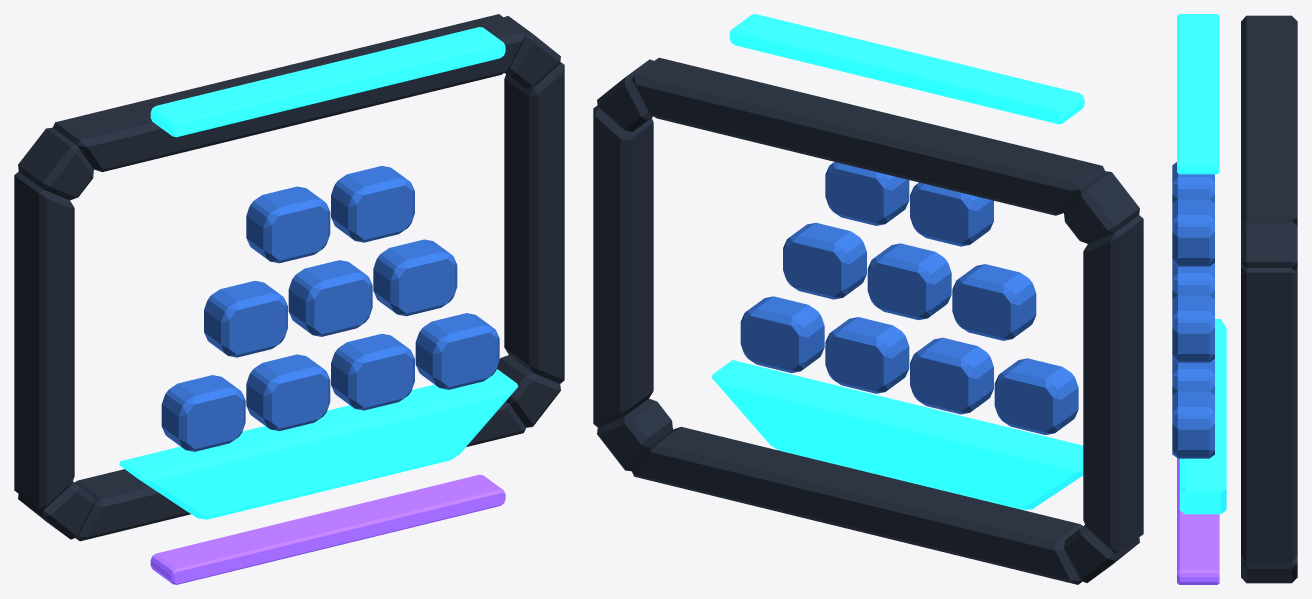
Rendered from tech-docker.glb.
3 views of the same model, side by side, from view 1: azimuth 30°, elevation 25°; view 2: azimuth 150°, elevation 25°; view 3: azimuth 270°, elevation 25° (orthographic). The views are drawn at different scales.
Visible parts, largest first — view 1: tech-docker_SystemMaterial, tech-docker_CoreMaterial, tech-docker_SignalMaterial, tech-docker_AccentMaterial; view 2: tech-docker_SystemMaterial, tech-docker_CoreMaterial, tech-docker_SignalMaterial; view 3: tech-docker_SystemMaterial, tech-docker_CoreMaterial, tech-docker_SignalMaterial, tech-docker_AccentMaterial.
Part boxes in pixels (<box>): tech-docker_SystemMaterial: <box>14,14,564,541</box>; tech-docker_CoreMaterial: <box>161,166,499,451</box>; tech-docker_SignalMaterial: <box>119,27,518,519</box>; tech-docker_AccentMaterial: <box>150,474,505,584</box>; tech-docker_SystemMaterial: <box>593,57,1143,584</box>; tech-docker_CoreMaterial: <box>740,162,1078,434</box>; tech-docker_SignalMaterial: <box>711,14,1084,510</box>; tech-docker_SystemMaterial: <box>1241,15,1297,583</box>; tech-docker_CoreMaterial: <box>1172,162,1214,458</box>; tech-docker_SignalMaterial: <box>1177,14,1226,514</box>; tech-docker_AccentMaterial: <box>1177,458,1219,584</box>.
Size of the model in its own units: 1.18 by 0.995 by 0.265.
